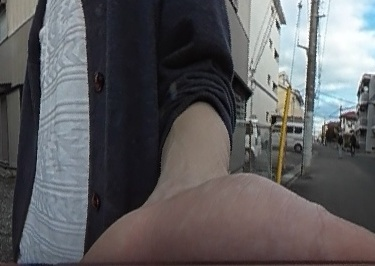person: (348, 130, 359, 158)
